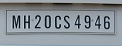0: (44, 14, 52, 29)
2: (34, 14, 42, 30)
4: (74, 14, 82, 29), (94, 15, 102, 30)
6: (103, 15, 112, 30)
9: (83, 15, 92, 29)
C: (54, 15, 62, 30)
H: (23, 14, 31, 30)
M: (11, 14, 21, 29)
S: (62, 15, 72, 29)
